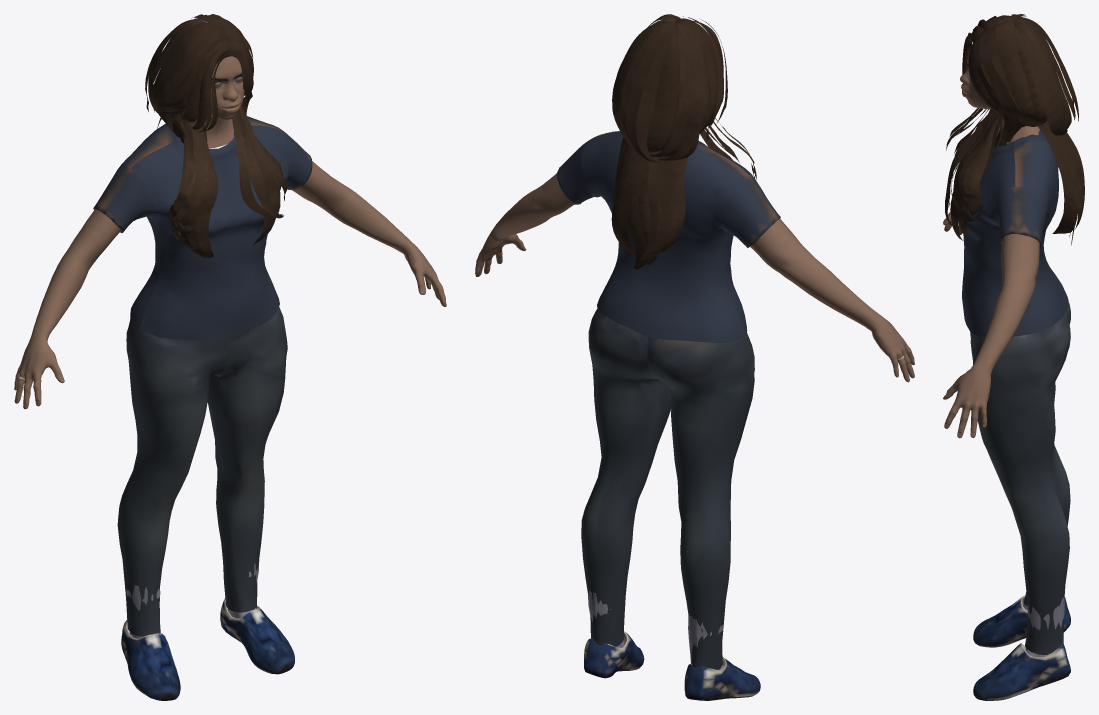
Rendered from 0003-People-cast-cooked-mh-14.glb.
3 views of the same model, side by side, from view 1: azimuth 30°, elevation 25°; view 2: azimuth 150°, elevation 25°; view 3: azimuth 270°, elevation 25° (orthographic). The views are drawn at different scales.
Visible parts, largest first — view 1: People: cast (cooked)/mh_14; view 2: People: cast (cooked)/mh_14; view 3: People: cast (cooked)/mh_14.
Boxes of the visible parts, x1,y1,x2,y2 form: People: cast (cooked)/mh_14: (14,14,446,700); People: cast (cooked)/mh_14: (475,14,914,700); People: cast (cooked)/mh_14: (943,14,1084,700).
Size of the model in its own units: 1.13 by 1.66 by 0.3272.
